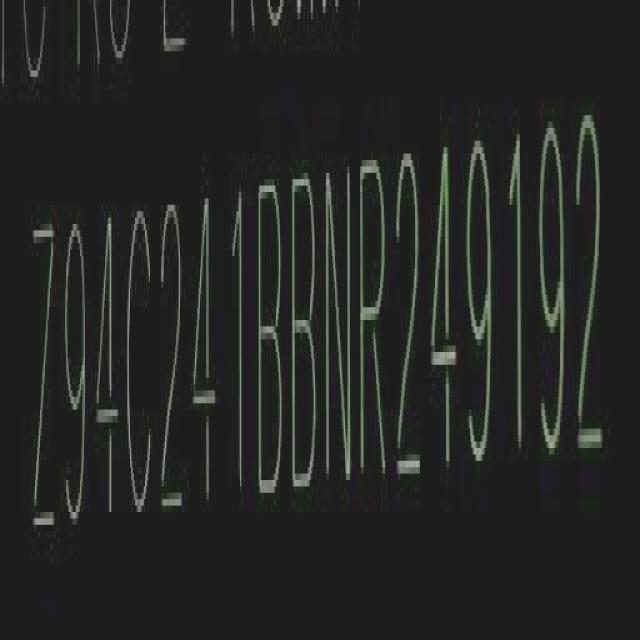1: (506, 123, 528, 470), (229, 177, 249, 512)
2: (390, 142, 425, 496), (571, 107, 606, 460)
4: (192, 189, 222, 522), (431, 138, 459, 480), (95, 207, 120, 536)
9: (538, 118, 570, 462), (462, 134, 493, 476), (61, 215, 88, 546)
B: (256, 171, 286, 505), (292, 168, 321, 498)
C: (128, 202, 158, 532), (157, 200, 187, 526)
N: (323, 155, 352, 495)
R: (356, 150, 388, 498)
Z: (28, 216, 58, 556)
